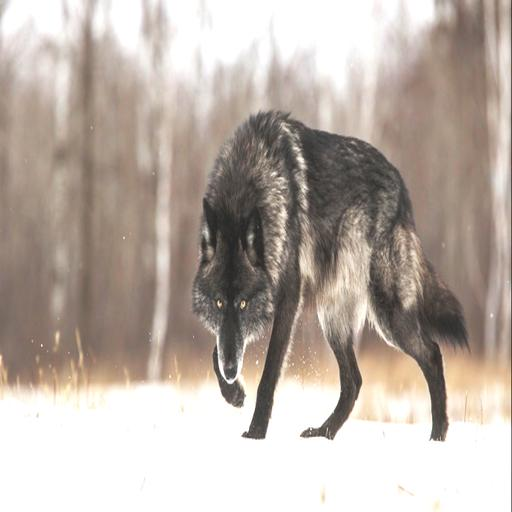Wolf: (189, 108, 477, 443)
